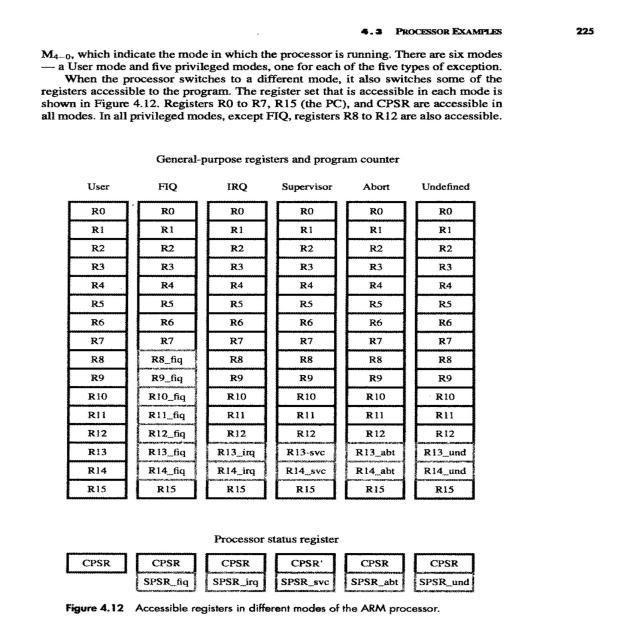diagram: (42, 134, 512, 615)
